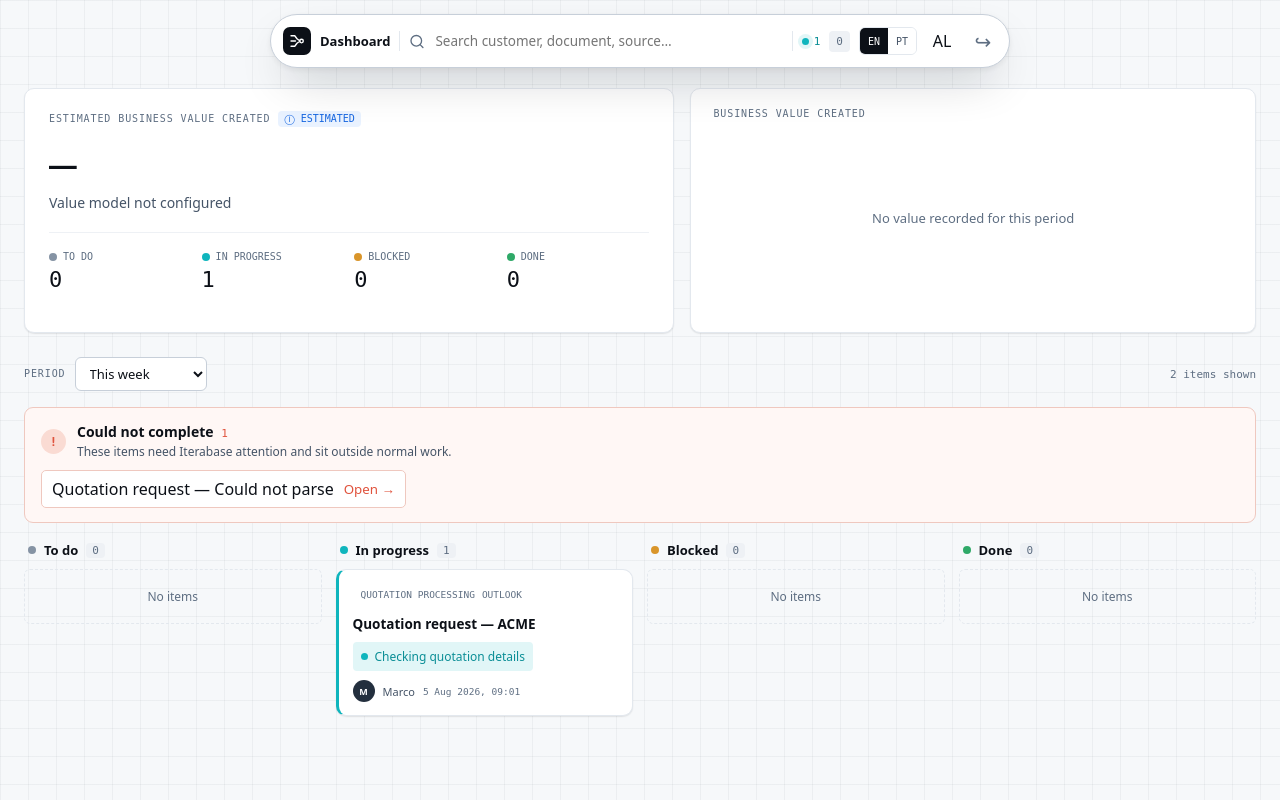
it: Platform v1 Dashboard › keeps active business steps visible and failed work outside the four columns when value is unconfigured
Expected: the text "Value model not configured" is shown, left=49, top=193, right=232, bottom=212
Expected: the text "Checking quotation details" is shown, left=352, top=642, right=533, bottom=671
What coordinates should you click on to do the following:
click the text "Quotation request — ACME"
I would click on:
 (444, 624)
Its box is left=352, top=615, right=536, bottom=633.
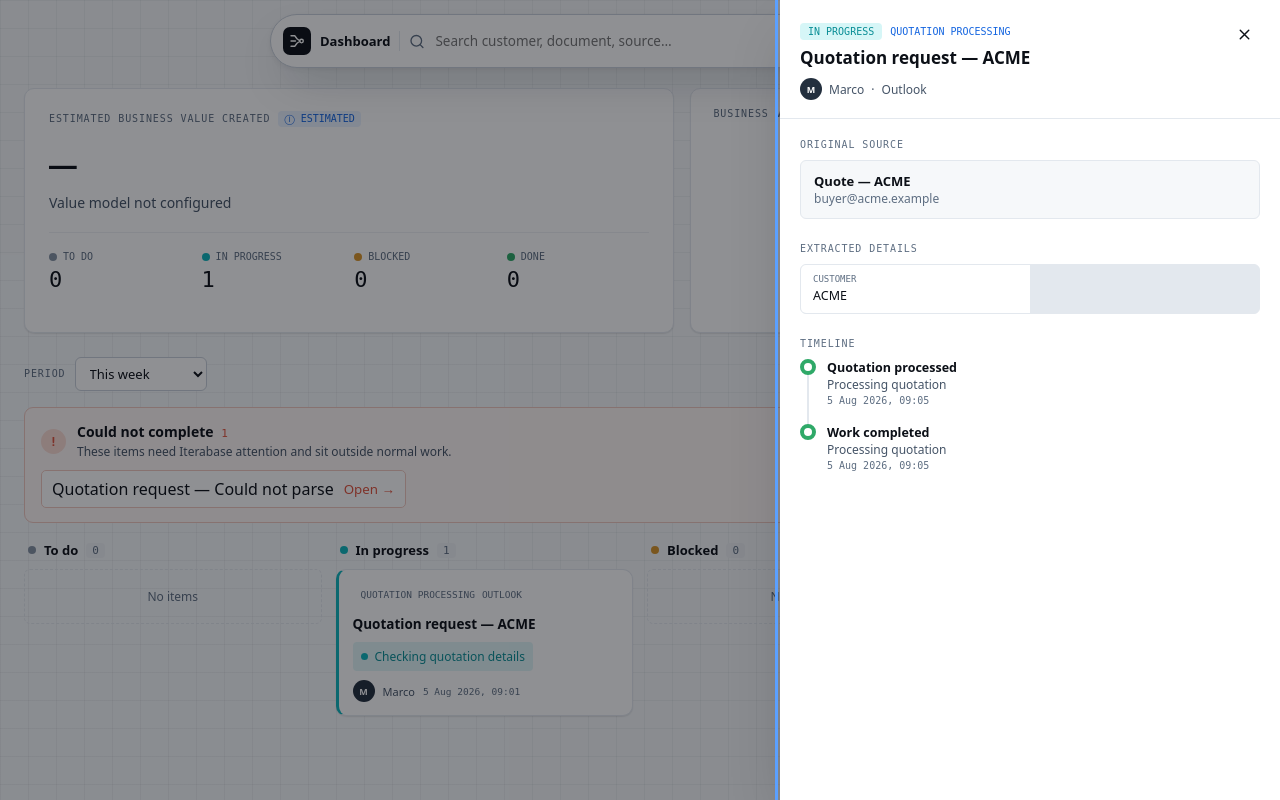
Expected: the text "Processing quotation" below "Quotation processed" is shown, left=827, top=376, right=946, bottom=393
